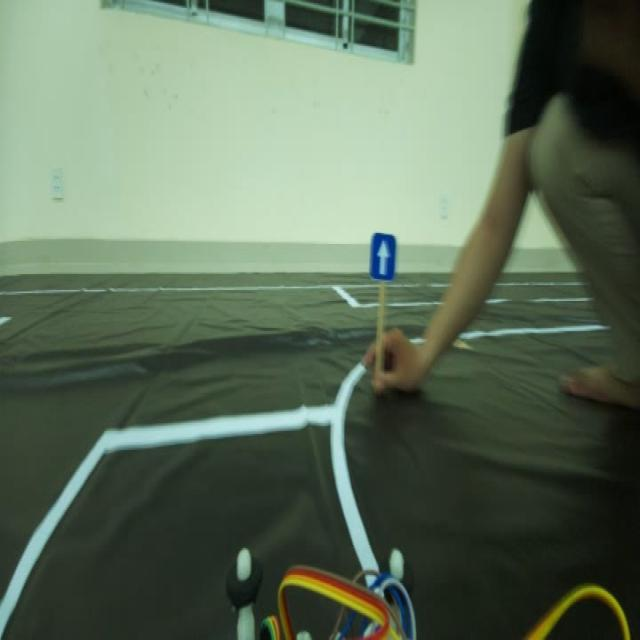onewayroad: (363, 224, 403, 291)
